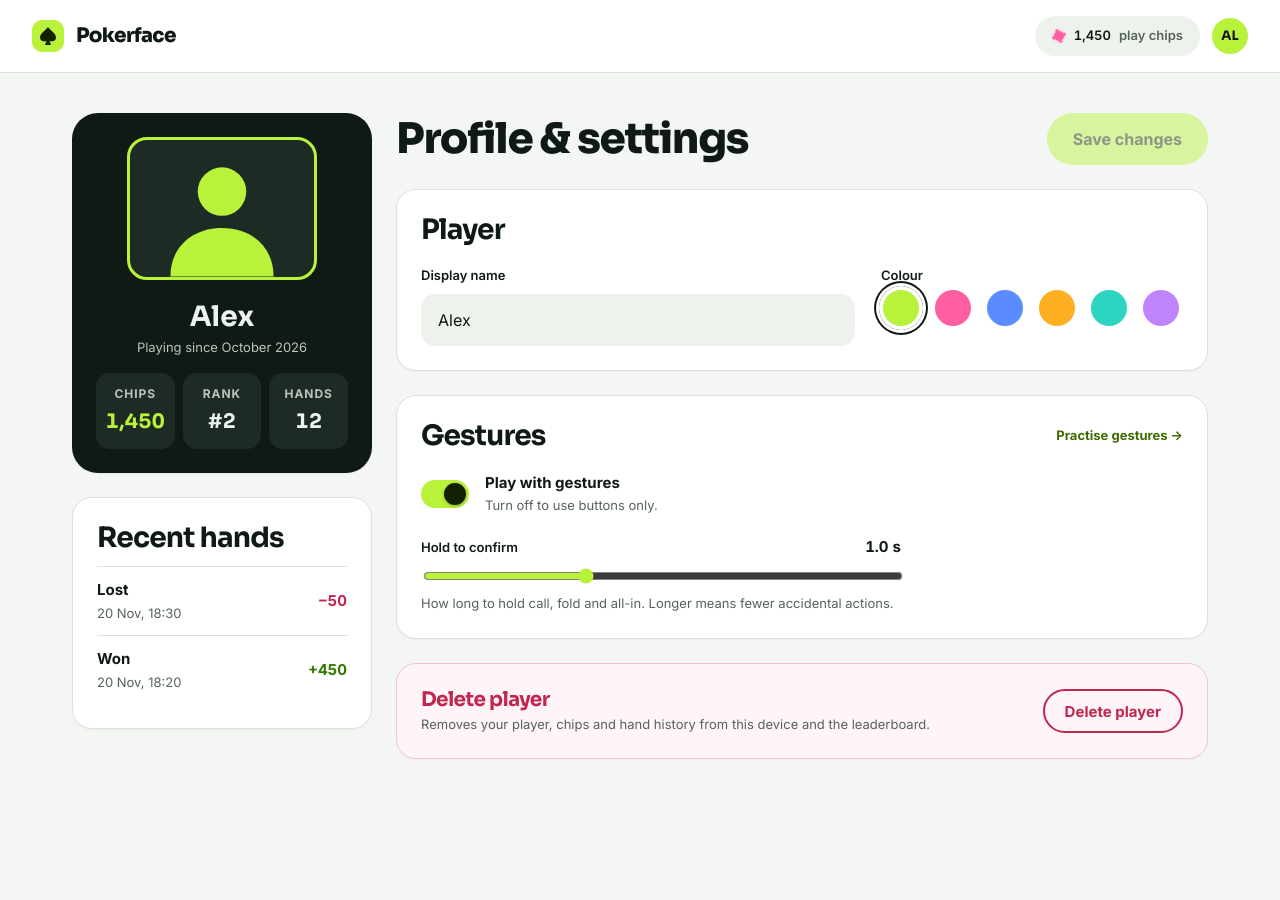
Test case: ProfilePage › keeps the changes when the service is down
This screenshot has width=1280, height=900.
Replace the text in the field labelled "Display name" with "Al": x=638, y=320 [421,294,855,346]
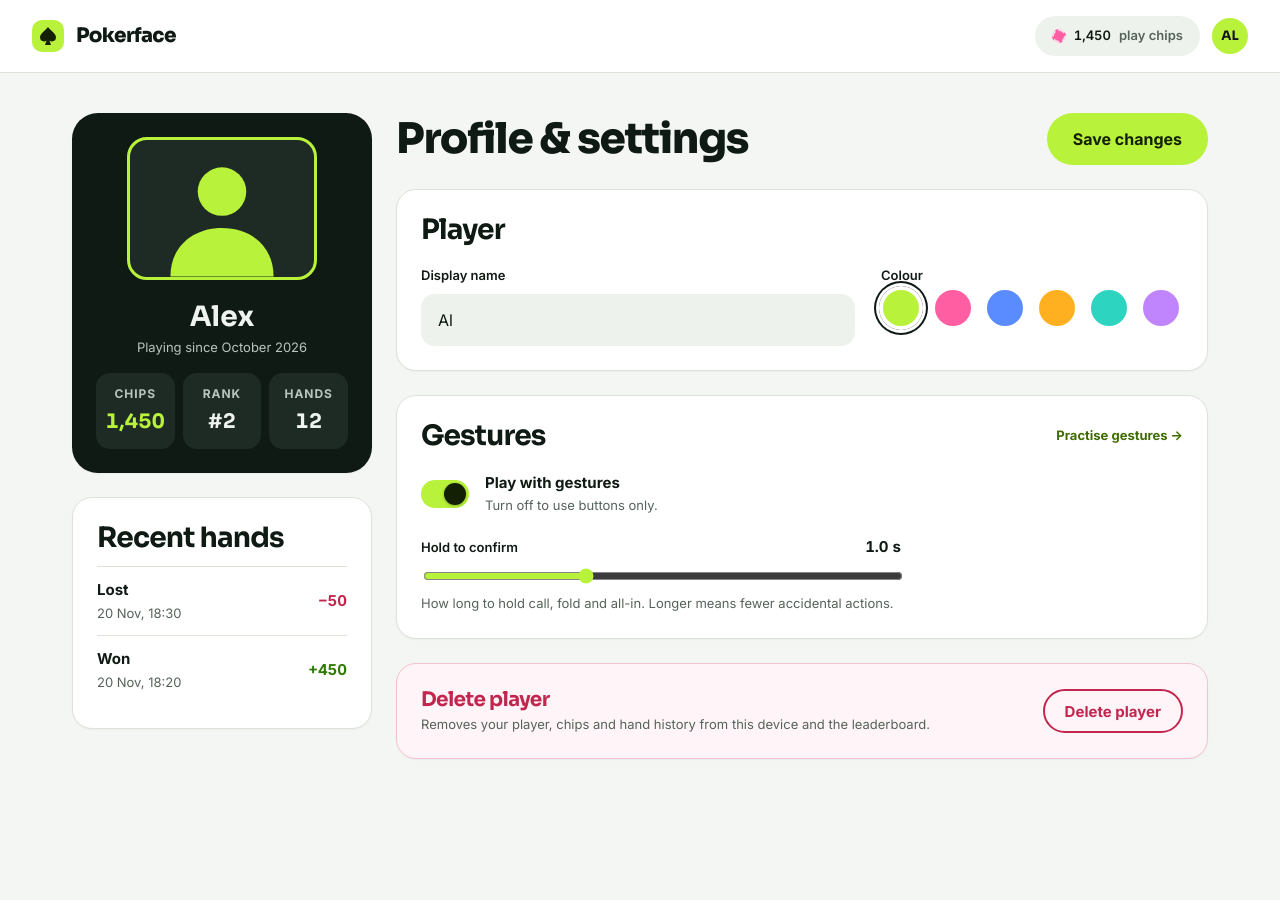
Click the button "Save changes": x=1127, y=139 [1047,113,1208,165]
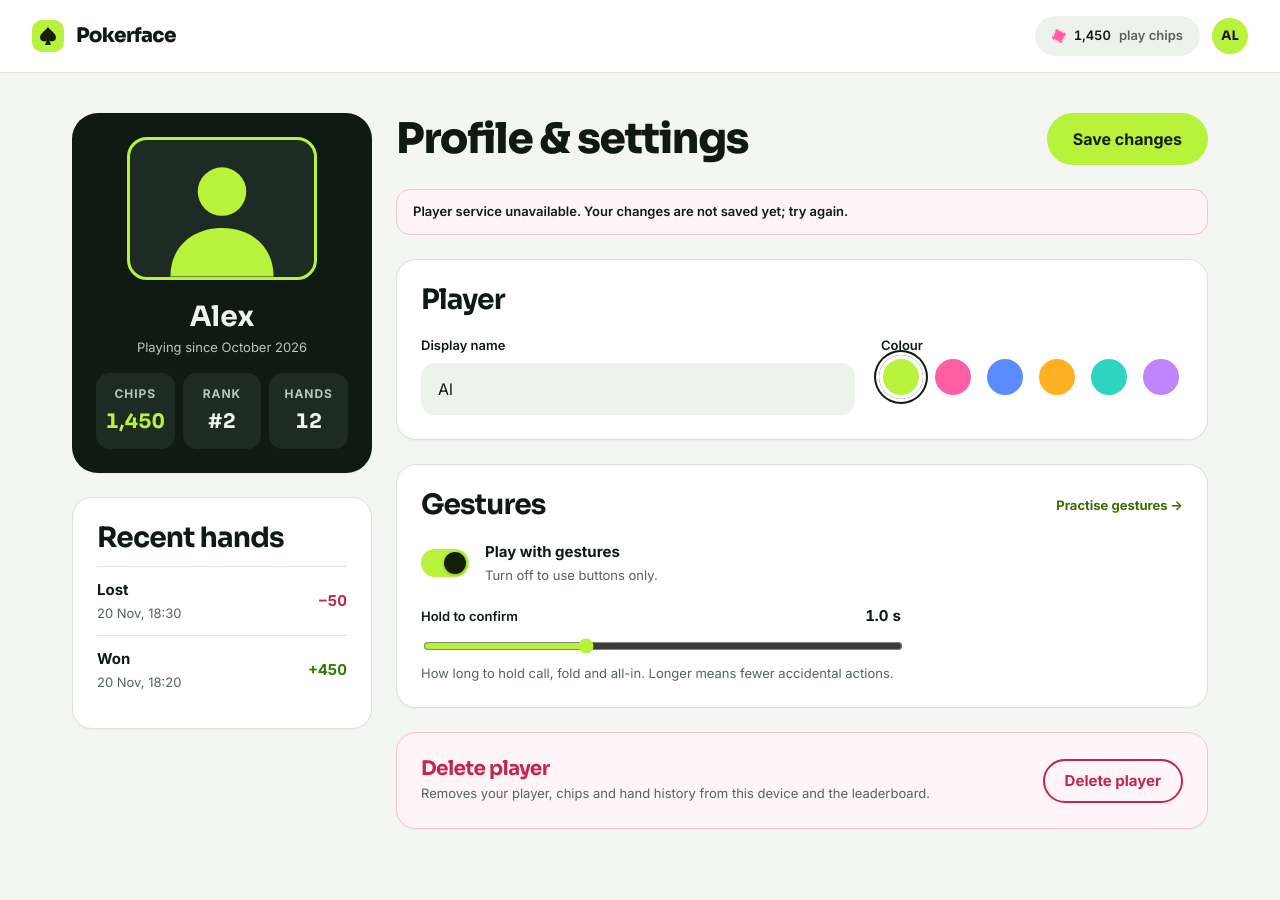
Now the message shows "changes are not saved yet", box [413,203,848,219]
